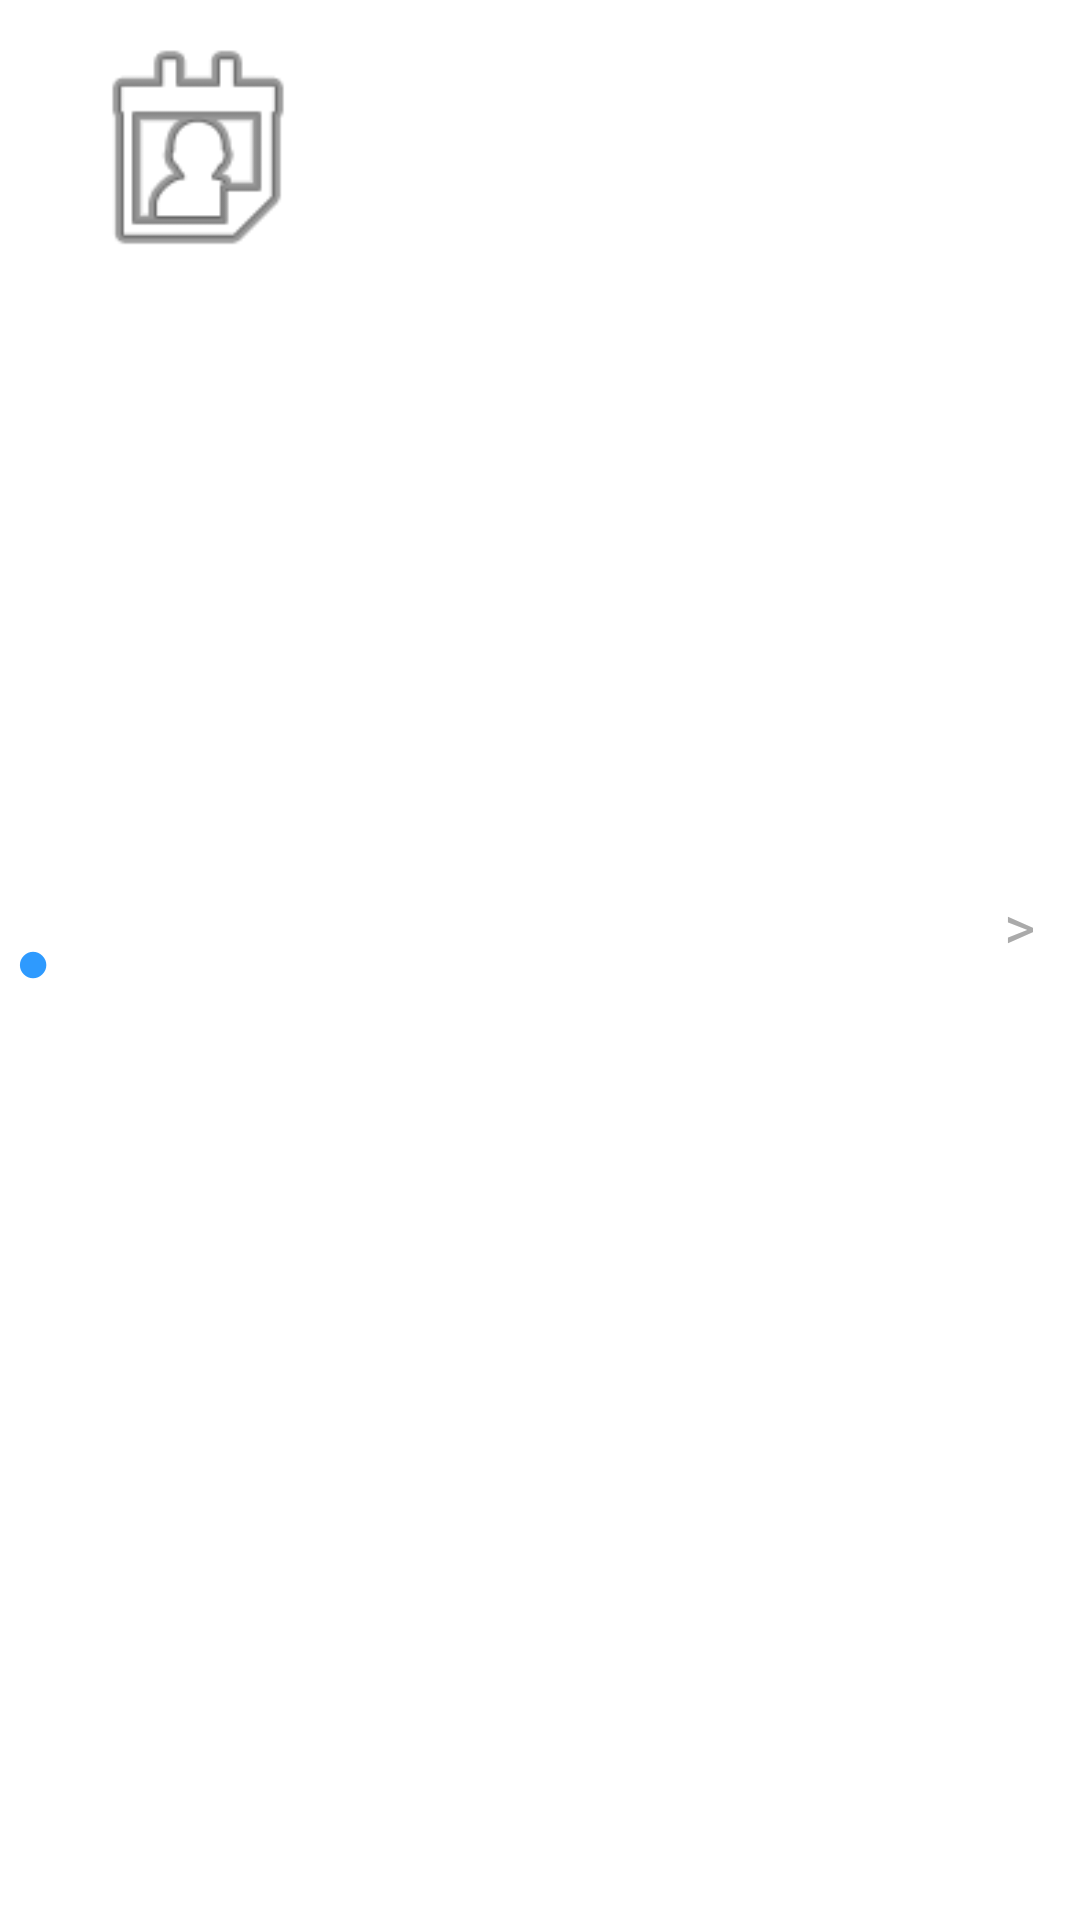

Where icons sit on this 1080×1920 app screen, as [x1=x1, y1=y1, x2=x2, y2=y2]:
calendar: [x1=112, y1=50, x2=284, y2=244]
